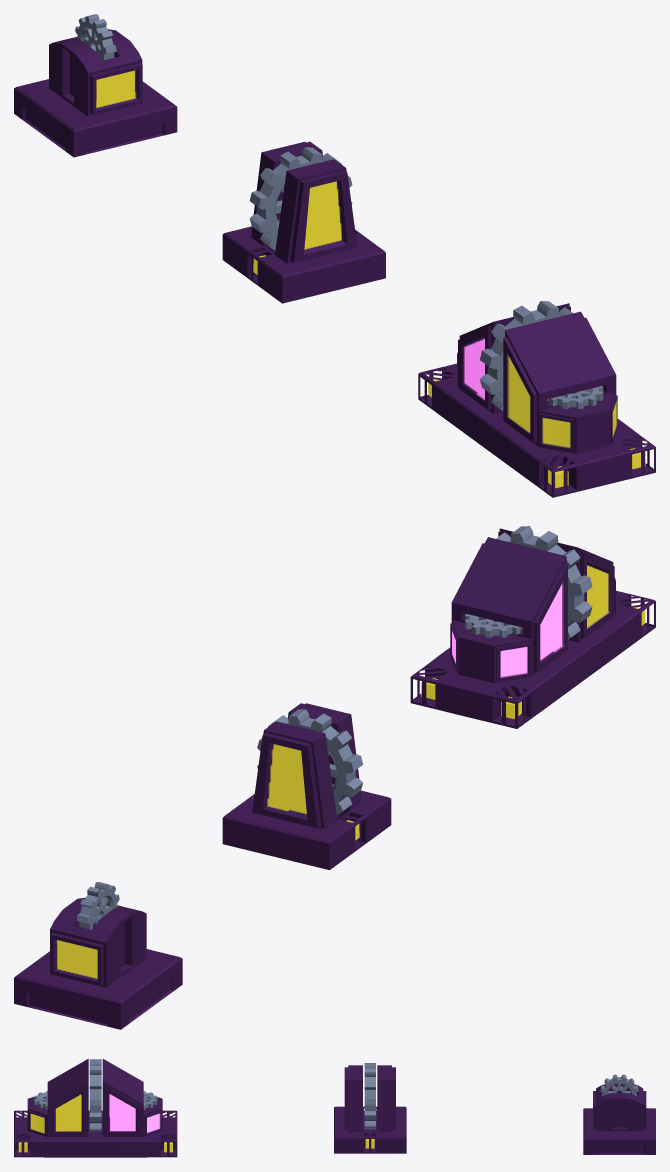
The model's file is Generators_pack_V2.gltf.
3 views of the same model, one above another, from view 1: azimuth 30°, elevation 25°; view 2: azimuth 150°, elevation 25°; view 3: azimuth 270°, elevation 25° (orthographic). The views are drawn at different scales.
Visible parts, largest first — view 1: Gen_3, Gen_2, Gen_1; view 2: Gen_3, Gen_2, Gen_1; view 3: Gen_3, Gen_2, Gen_1.
Part boxes in pixels (box(x1,y1,x2,y2)): Gen_3: box(418, 301, 655, 497); Gen_2: box(222, 141, 385, 303); Gen_1: box(14, 14, 177, 157); Gen_3: box(410, 526, 655, 728); Gen_2: box(222, 703, 391, 870); Gen_1: box(14, 882, 182, 1029); Gen_3: box(14, 1058, 177, 1157); Gen_2: box(334, 1063, 406, 1153); Gen_1: box(583, 1074, 655, 1154).
Bounding box in the file's own units: 0.8766 × 0.9595 × 7.07.
Materials: 4 (4 with a texture image).
